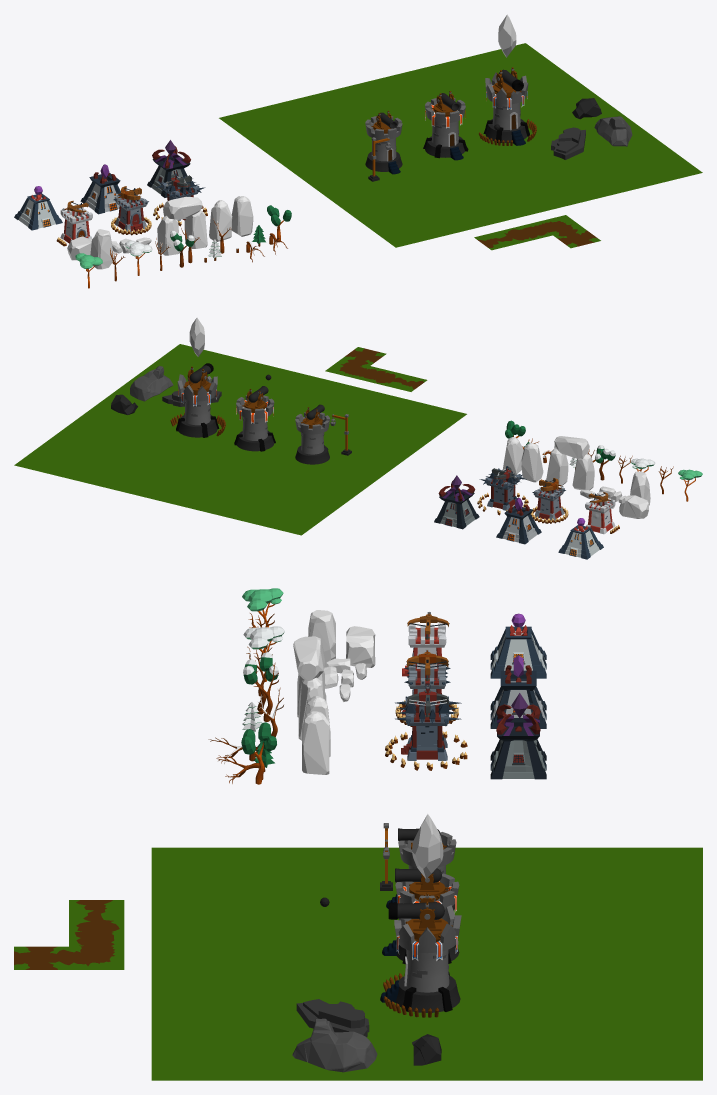
3 views of the same model, one above another, from view 1: azimuth 30°, elevation 25°; view 2: azimuth 150°, elevation 25°; view 3: azimuth 270°, elevation 25° (orthographic). The views are drawn at different scales.
Parts seen in each view (by area): view 1: Plane, Tower Lvl 3, Tower Lvl 2, Tower Lvl 1, Tower lvl2, Tower lvl1, Tower lvl3, Archery Lvl.2, Cube.003, Plane.001, Archery Lvl.1, Cube.028 (+13 smaller); view 2: Plane, Tower Lvl 3, Tower Lvl 2, Tower lvl3, Tower Lvl 1, Tower lvl2, Tower lvl1, Archery Lvl.3, Cube.003, Archery Lvl.1, Archery Lvl.2, Cube.028 (+13 smaller); view 3: Plane, Tower Lvl 3, Tower lvl3, Cube.003, Archery Lvl.3, Tower lvl1, Tower lvl2, Plane.001, Cube.027, Gun.002, Cube.006, Plane.005 (+16 smaller).
Boxes of the visible parts, bbox=[...] form: Plane: bbox=[219, 43, 702, 247]; Tower Lvl 3: bbox=[479, 72, 536, 145]; Tower Lvl 2: bbox=[423, 98, 468, 160]; Tower Lvl 1: bbox=[365, 116, 402, 174]; Tower lvl2: bbox=[80, 172, 120, 214]; Tower lvl1: bbox=[14, 193, 62, 230]; Tower lvl3: bbox=[147, 146, 190, 197]; Archery Lvl.2: bbox=[113, 194, 148, 231]; Cube.003: bbox=[594, 116, 632, 146]; Plane.001: bbox=[551, 127, 585, 159]; Archery Lvl.1: bbox=[60, 207, 92, 243]; Cube.028: bbox=[209, 200, 232, 241]; Plane: bbox=[14, 344, 466, 535]; Tower Lvl 3: bbox=[170, 374, 225, 437]; Tower Lvl 2: bbox=[234, 395, 275, 451]; Tower lvl3: bbox=[434, 481, 479, 529]; Tower Lvl 1: bbox=[295, 412, 329, 464]; Tower lvl2: bbox=[496, 505, 541, 544]; Tower lvl1: bbox=[558, 525, 603, 559]; Archery Lvl.3: bbox=[479, 469, 526, 510]; Cube.003: bbox=[130, 366, 173, 401]; Archery Lvl.1: bbox=[585, 498, 615, 534]; Archery Lvl.2: bbox=[532, 486, 565, 520]; Cube.028: bbox=[521, 442, 543, 482]; Plane: bbox=[151, 847, 702, 1080]; Tower Lvl 3: bbox=[380, 905, 461, 1017]; Tower lvl3: bbox=[490, 704, 546, 779]; Cube.003: bbox=[292, 1018, 377, 1072]; Archery Lvl.3: bbox=[395, 696, 461, 760]; Tower lvl1: bbox=[490, 625, 546, 678]; Tower lvl2: bbox=[490, 665, 546, 728]; Plane.001: bbox=[296, 999, 369, 1037]; Cube.027: bbox=[302, 711, 329, 774]; Gun.002: bbox=[388, 892, 452, 941]; Cube.006: bbox=[412, 814, 443, 879]; Plane.005: bbox=[69, 923, 124, 946].
Bounding box in the file's own units: 7685 × 1535 × 5000.
